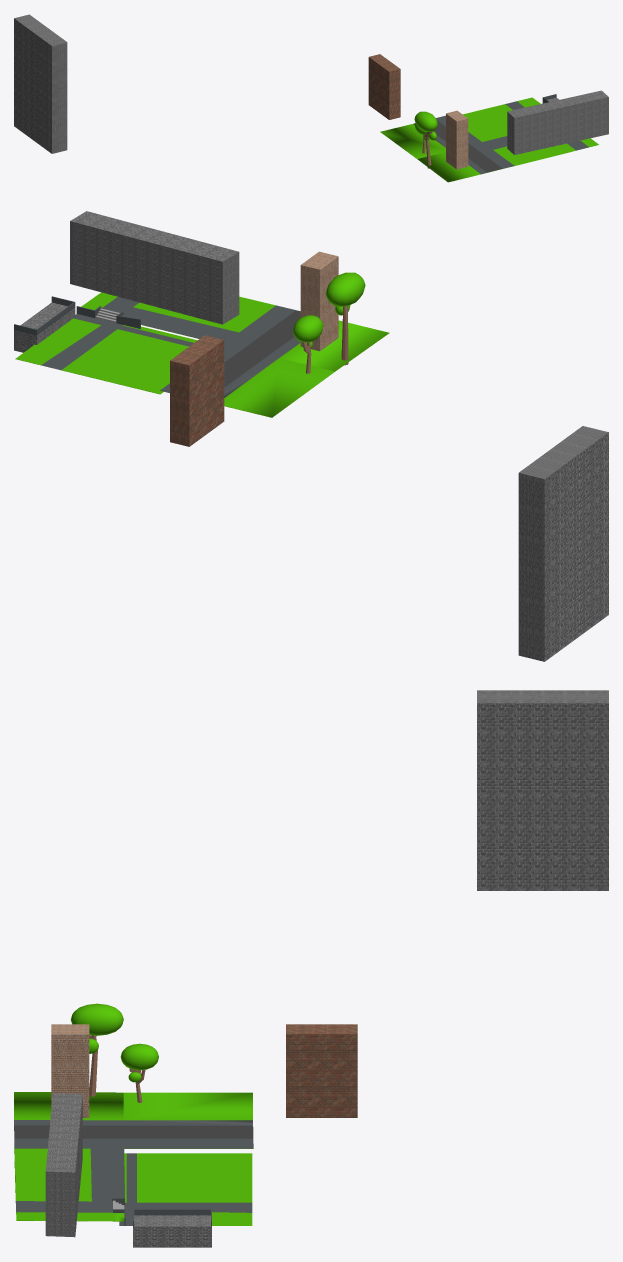
Rendered from Scenasdery.fbx.
3 renders of one model, top to bottom at view 1: azimuth 30°, elevation 25°; view 2: azimuth 150°, elevation 25°; view 3: azimuth 270°, elevation 25°, orthographic. The views are drawn at different scales.
Visible parts, largest first — view 1: polySurface1431, polySurface1335, polySurface1340, polySurface1400, polySurface1332, polySurface1407, pCube151; view 2: polySurface1431, polySurface1335, polySurface1340, polySurface1332, polySurface1400, polySurface1407, polySurface1325, pCube151, pCube152; view 3: polySurface1431, polySurface1340, polySurface1332, polySurface1400, polySurface1335, polySurface1325, polySurface1407, pCube151, pCube152.
Part boxes in pixels (x1=…): polySurface1431: x1=14, y1=14, x2=67, y2=153; polySurface1335: x1=507, y1=90, x2=608, y2=154; polySurface1340: x1=380, y1=115, x2=598, y2=182; polySurface1400: x1=368, y1=54, x2=400, y2=119; polySurface1332: x1=463, y1=97, x2=540, y2=142; polySurface1407: x1=446, y1=110, x2=468, y2=169; pCube151: x1=414, y1=111, x2=437, y2=131; polySurface1431: x1=518, y1=426, x2=608, y2=661; polySurface1335: x1=70, y1=211, x2=239, y2=324; polySurface1340: x1=81, y1=292, x2=389, y2=417; polySurface1332: x1=15, y1=314, x2=197, y2=394; polySurface1400: x1=170, y1=335, x2=224, y2=446; polySurface1407: x1=300, y1=251, x2=338, y2=351; polySurface1325: x1=14, y1=296, x2=75, y2=352; pCube151: x1=325, y1=272, x2=365, y2=306; pCube152: x1=293, y1=315, x2=323, y2=342; polySurface1431: x1=477, y1=690, x2=608, y2=890; polySurface1340: x1=14, y1=1092, x2=253, y2=1221; polySurface1332: x1=119, y1=1153, x2=252, y2=1225; polySurface1400: x1=286, y1=1024, x2=357, y2=1117; polySurface1335: x1=45, y1=1093, x2=82, y2=1237; polySurface1325: x1=133, y1=1209, x2=211, y2=1247; polySurface1407: x1=51, y1=1024, x2=89, y2=1117; pCube151: x1=70, y1=1003, x2=123, y2=1035; pCube152: x1=120, y1=1043, x2=158, y2=1070.
Size of the model in its own units: 1048 by 258 by 716.
